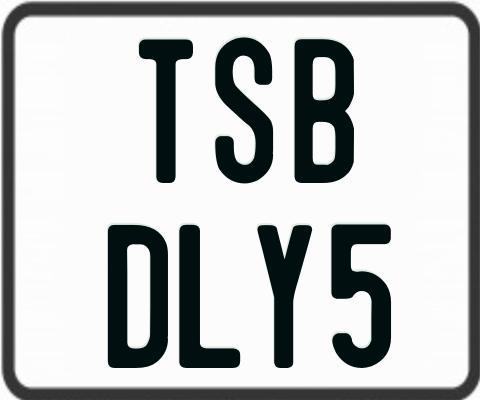5: (331, 223, 391, 370)
B: (294, 36, 353, 182)
D: (107, 223, 168, 366)
L: (179, 223, 246, 366)
S: (212, 35, 276, 182)
T: (136, 38, 194, 185)
Y: (257, 224, 312, 373)
